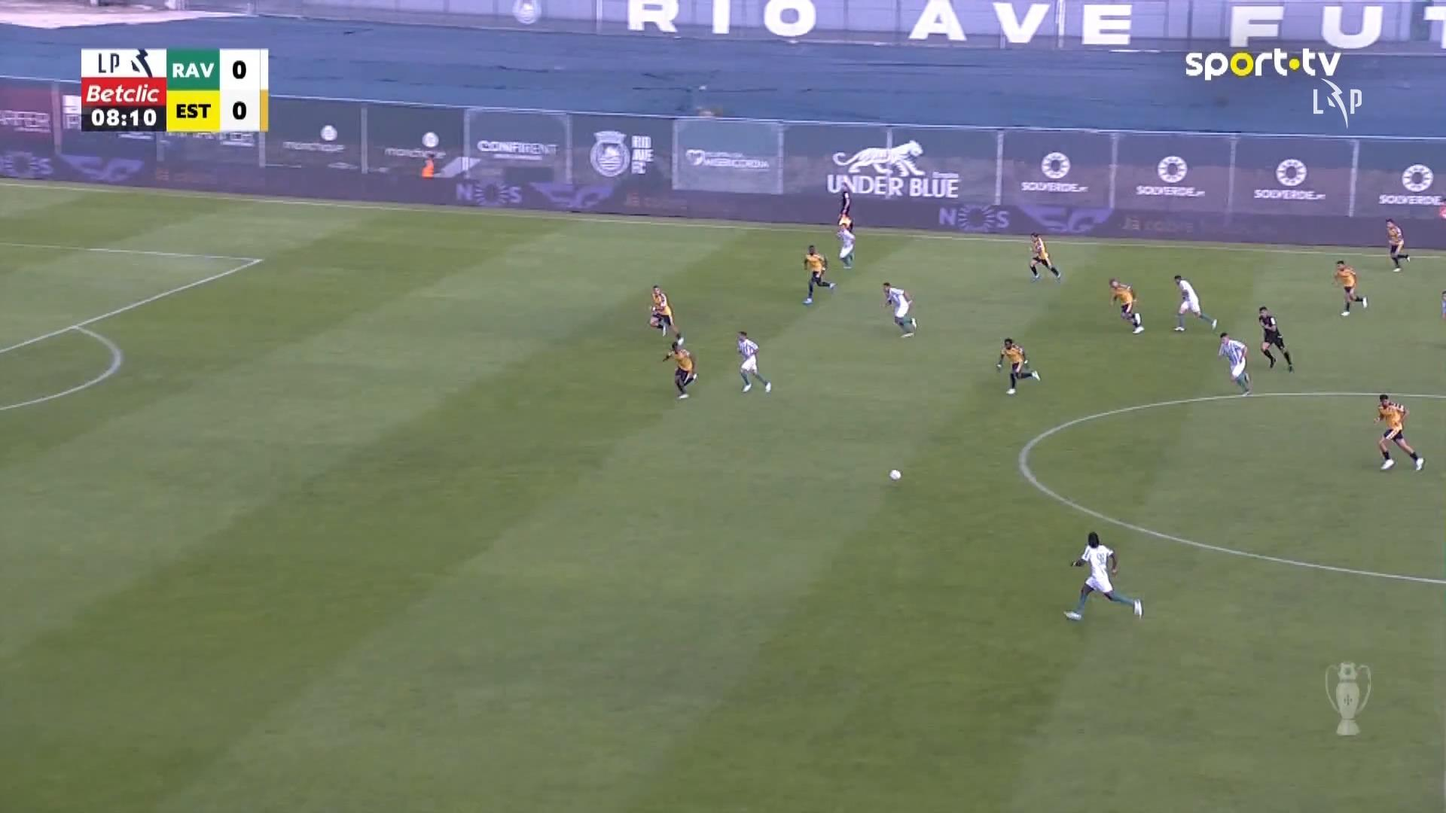ball: (889, 469, 901, 480)
player: (1063, 531, 1142, 621), (1372, 392, 1424, 471), (1171, 273, 1217, 332), (995, 336, 1040, 394), (735, 329, 771, 393), (1217, 331, 1252, 395), (662, 336, 697, 399), (801, 243, 835, 305), (1332, 258, 1368, 316), (881, 281, 917, 338), (1108, 277, 1144, 334), (1027, 231, 1062, 284), (647, 284, 678, 339), (1385, 218, 1410, 272), (836, 223, 857, 268)
referee: (1257, 305, 1294, 372), (837, 183, 852, 234)
